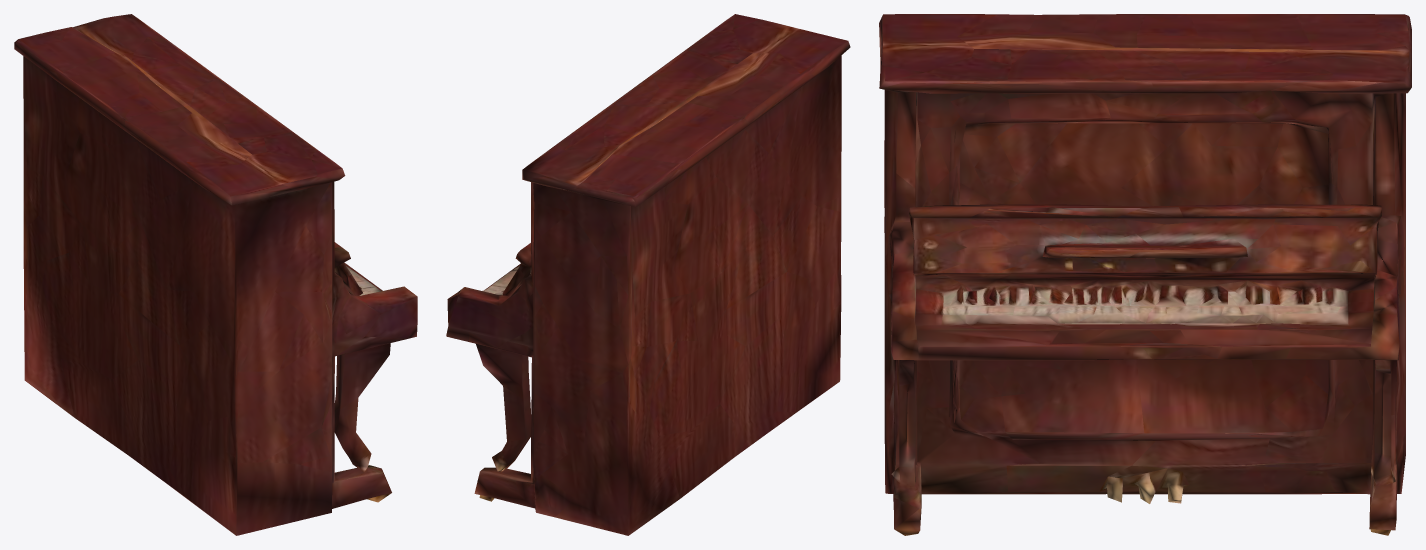
Rendered from 竖式钢琴.glb.
3 views of the same model, side by side, from view 1: azimuth 30°, elevation 25°; view 2: azimuth 150°, elevation 25°; view 3: azimuth 270°, elevation 25° (orthographic). The views are drawn at different scales.
Parts seen in each view (by area): view 1: tripo_node_3eac19b2-0584-455b-b97b-9f8fa5f00dc2; view 2: tripo_node_3eac19b2-0584-455b-b97b-9f8fa5f00dc2; view 3: tripo_node_3eac19b2-0584-455b-b97b-9f8fa5f00dc2.
Part boxes in pixels (x1,y1,x2,y2): tripo_node_3eac19b2-0584-455b-b97b-9f8fa5f00dc2: [14, 14, 417, 535]; tripo_node_3eac19b2-0584-455b-b97b-9f8fa5f00dc2: [446, 14, 850, 535]; tripo_node_3eac19b2-0584-455b-b97b-9f8fa5f00dc2: [879, 14, 1411, 535].
Bounding box in the file's own units: 0.5197 × 0.8835 × 0.9991.
1 material, 1 textured.
